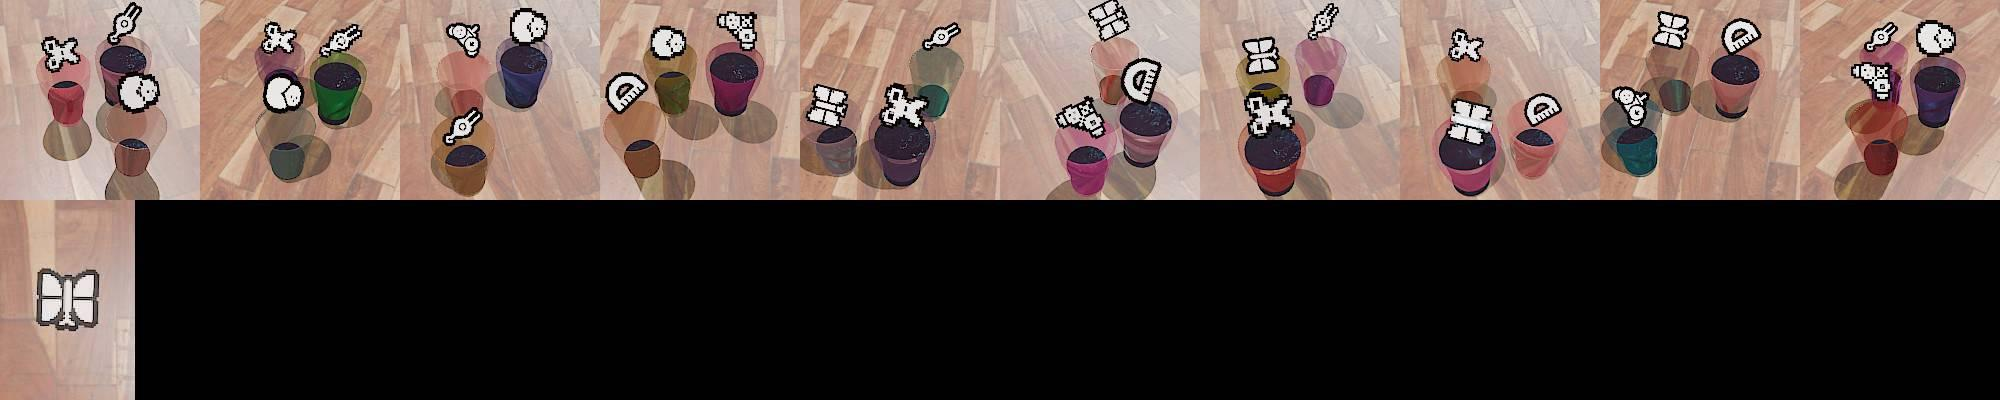icon: (33, 267, 102, 331), (1244, 89, 1295, 137), (880, 82, 930, 129), (1054, 96, 1106, 140), (804, 81, 851, 129), (1447, 96, 1493, 145), (1120, 57, 1163, 104), (604, 71, 649, 115), (1850, 60, 1896, 102), (714, 10, 759, 51), (262, 71, 305, 113), (116, 72, 161, 112), (1088, 0, 1130, 42), (443, 105, 483, 146), (1611, 86, 1651, 127), (1242, 35, 1282, 76), (318, 23, 363, 59), (1721, 19, 1762, 58), (1652, 10, 1690, 52), (1915, 20, 1958, 57), (508, 7, 547, 46), (40, 35, 81, 72), (108, 2, 143, 44), (1522, 92, 1562, 128), (445, 23, 482, 59), (649, 25, 687, 60), (1448, 28, 1484, 64), (260, 21, 298, 55), (1308, 2, 1341, 41), (1864, 20, 1899, 53), (923, 21, 961, 51)
